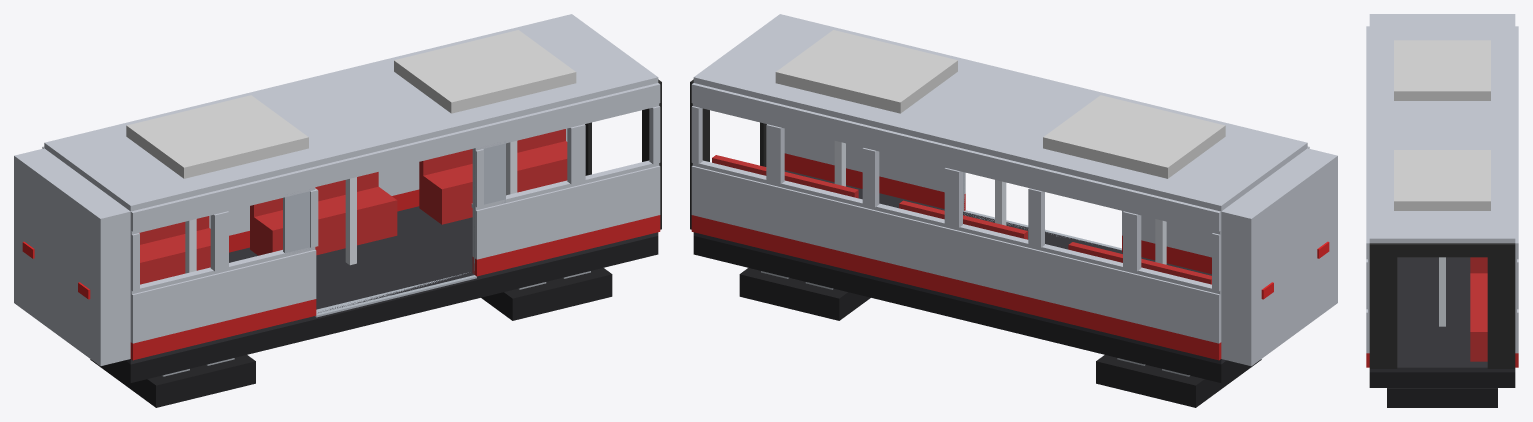
The model's file is metro_wagon_rear_l3.obj.
3 renders of one model, left to right at view 1: azimuth 30°, elevation 25°; view 2: azimuth 150°, elevation 25°; view 3: azimuth 270°, elevation 25°, orthographic. The views are drawn at different scales.
Bounding box in the file's own units: 3.16 × 1.26 × 0.88.
